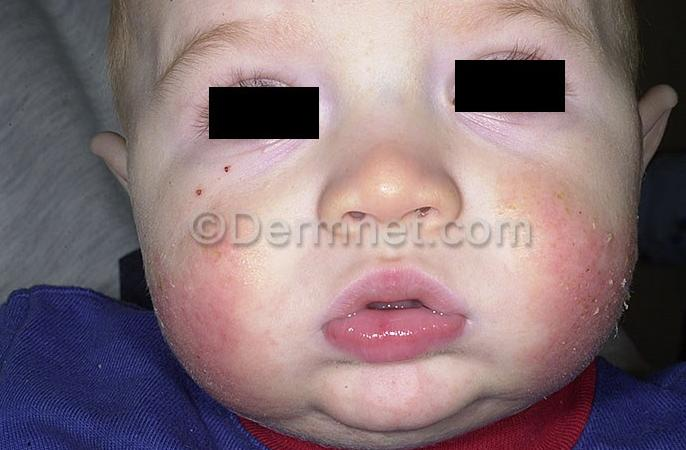Eritema 2: (518, 180, 645, 394), (125, 218, 241, 417)
edema 3: (122, 147, 648, 414)
excoriacion 2: (126, 217, 242, 414), (533, 211, 638, 376)
exudacion 1: (478, 159, 605, 226), (180, 202, 279, 268)
